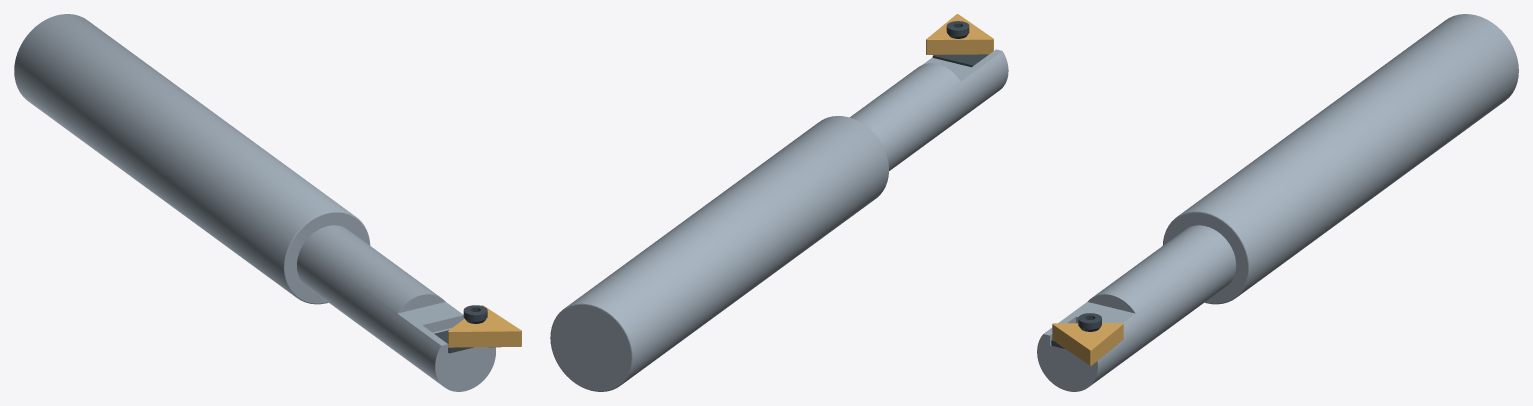
Rendered from internal-boring.glb.
The picture shows the model from 3 angles, left to right: view 1: azimuth 30°, elevation 25°; view 2: azimuth 150°, elevation 25°; view 3: azimuth 330°, elevation 25°; orthographic projection. The views are drawn at different scales.
Visible parts, largest first — view 1: BoringBar_Round_Shank, BoringBar_Reduced_Neck, BoringBar_Carbide_Insert; view 2: BoringBar_Round_Shank, BoringBar_Reduced_Neck, BoringBar_Carbide_Insert, BoringBar_Seat; view 3: BoringBar_Round_Shank, BoringBar_Reduced_Neck, BoringBar_Carbide_Insert.
Boxes of the visible parts, box(x1,y1,x2,y2) form: BoringBar_Round_Shank: box(14, 14, 370, 304); BoringBar_Reduced_Neck: box(297, 225, 495, 391); BoringBar_Carbide_Insert: box(448, 305, 521, 347); BoringBar_Round_Shank: box(550, 116, 888, 391); BoringBar_Reduced_Neck: box(850, 49, 1008, 170); BoringBar_Carbide_Insert: box(926, 14, 993, 54); BoringBar_Seat: box(932, 54, 988, 67); BoringBar_Round_Shank: box(1162, 14, 1518, 304); BoringBar_Reduced_Neck: box(1037, 225, 1236, 391); BoringBar_Carbide_Insert: box(1052, 323, 1123, 365).
Size of the model in its own units: 0.008 by 0.008 by 0.0676.
